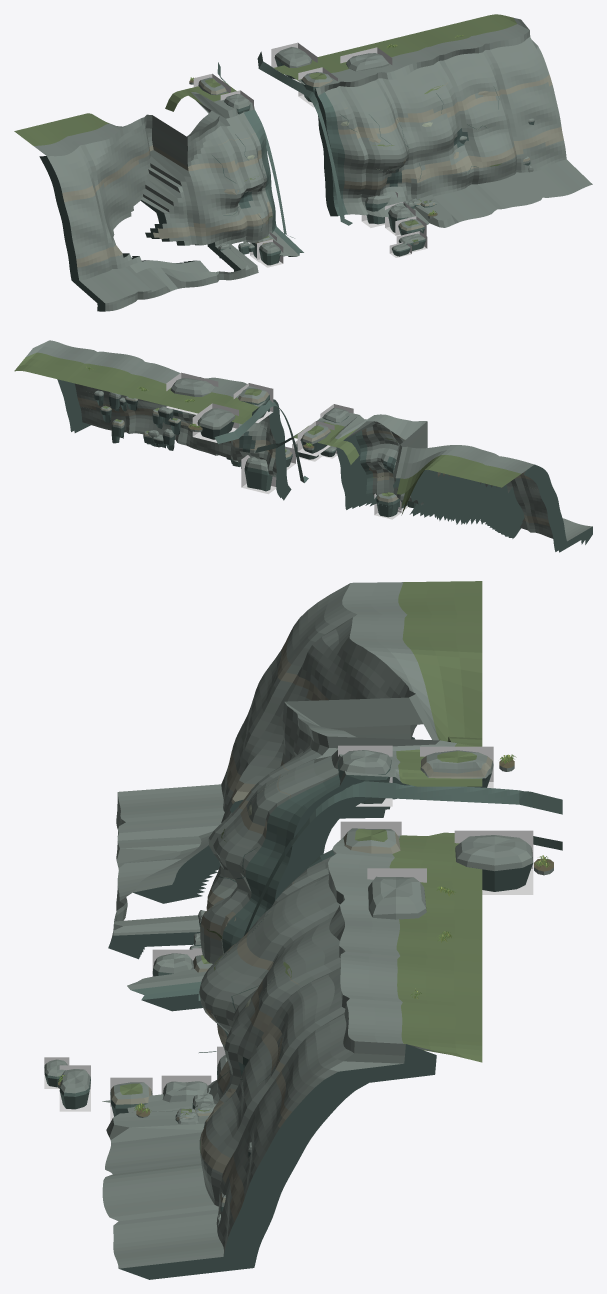
The model's file is silverveil-gorge.glb.
3 views of the same model, one above another, from view 1: azimuth 30°, elevation 25°; view 2: azimuth 150°, elevation 25°; view 3: azimuth 270°, elevation 25° (orthographic). The views are drawn at different scales.
Visible parts, largest first — view 1: GEO_Silverveil_stone, GEO_Silverveil_warm, GEO_Silverveil_moss, GEO_Silverveil_wet, GEO_Silverveil_shadow; view 2: GEO_Silverveil_stone, GEO_Silverveil_shadow, GEO_Silverveil_moss, GEO_Silverveil_wet, GEO_Silverveil_warm, COL_Upstream_East, COL_Upstream_West, COL_Eastern_Lookout, COL_Basin_Rim_4, COL_Lip_East; view 3: GEO_Silverveil_stone, GEO_Silverveil_moss, GEO_Silverveil_shadow, GEO_Silverveil_wet, GEO_Silverveil_warm, COL_Upstream_East.
Part boxes in pixels (<box>): GEO_Silverveil_stone: <box>34,18,592,311</box>; GEO_Silverveil_warm: <box>62,74,563,267</box>; GEO_Silverveil_moss: <box>14,14,516,238</box>; GEO_Silverveil_wet: <box>217,51,436,265</box>; GEO_Silverveil_shadow: <box>39,58,534,311</box>; GEO_Silverveil_stone: <box>26,340,592,541</box>; GEO_Silverveil_shadow: <box>57,379,592,552</box>; GEO_Silverveil_moss: <box>14,352,520,515</box>; GEO_Silverveil_wet: <box>214,395,416,517</box>; GEO_Silverveil_warm: <box>77,392,549,526</box>; COL_Upstream_East: <box>192,403,238,442</box>; COL_Upstream_West: <box>297,421,334,456</box>; COL_Eastern_Lookout: <box>166,372,218,414</box>; COL_Basin_Rim_4: <box>241,455,276,494</box>; COL_Lip_East: <box>233,383,273,422</box>; GEO_Silverveil_stone: <box>45,582,553,1268</box>; GEO_Silverveil_moss: <box>120,581,482,1152</box>; GEO_Silverveil_shadow: <box>108,737,532,1279</box>; GEO_Silverveil_wet: <box>44,760,562,1123</box>; GEO_Silverveil_warm: <box>111,635,492,1221</box>; COL_Upstream_East: <box>454,830,533,894</box>.
Size of the model in its own units: 183 by 46.5 by 84.02.
